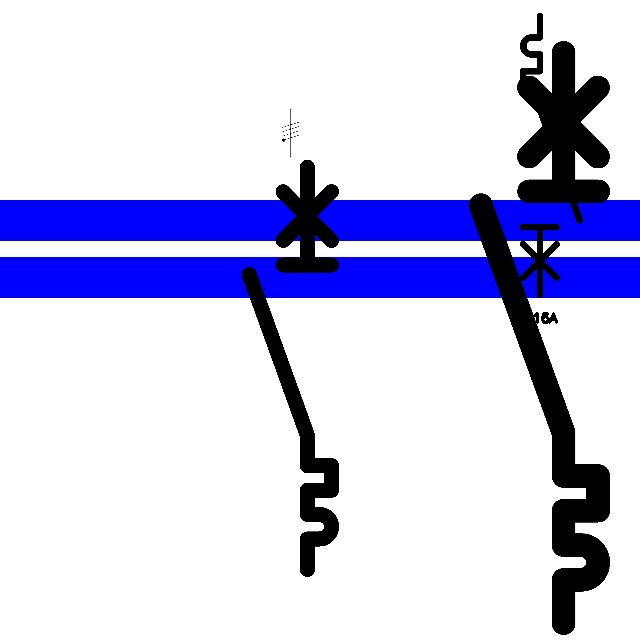interruptor_termomagnetico: (466, 38, 613, 638), (239, 156, 342, 579), (516, 9, 587, 302)
